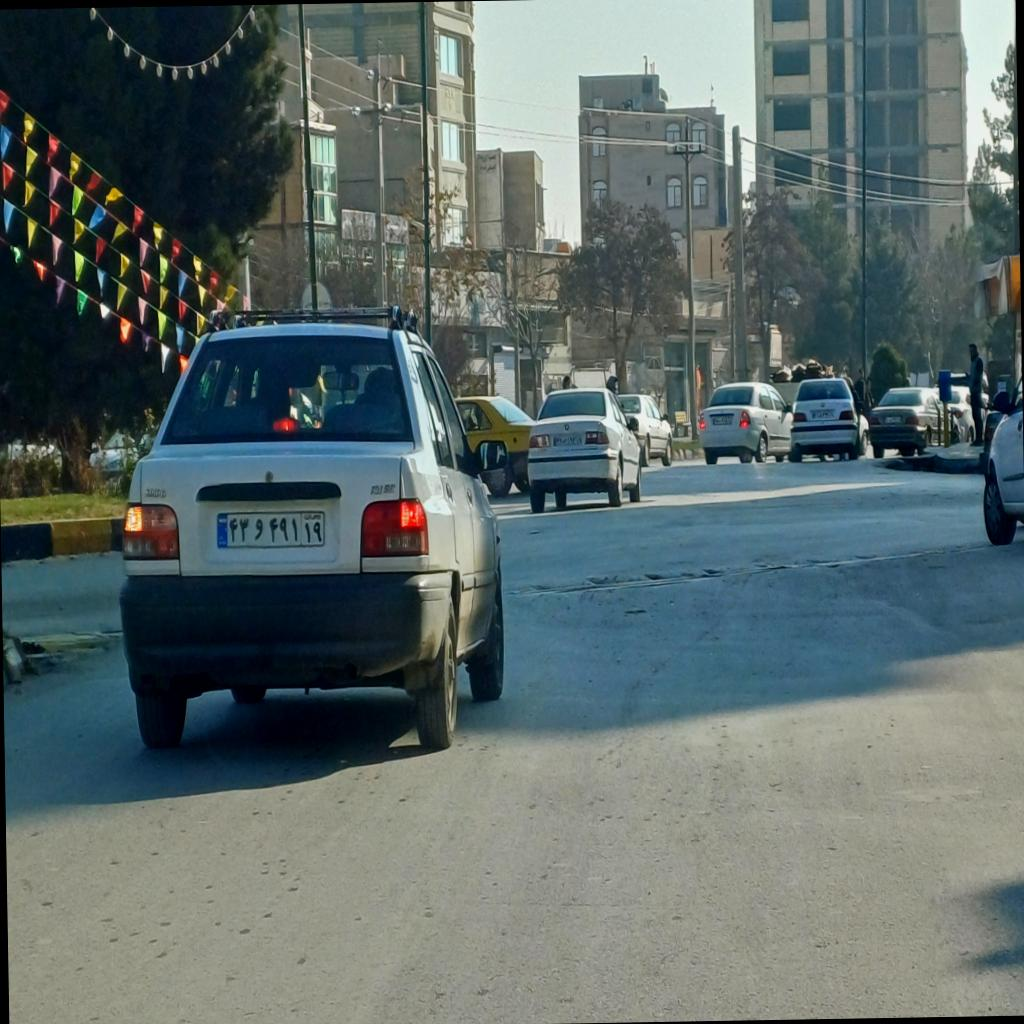Plates: (216, 510, 324, 548)
